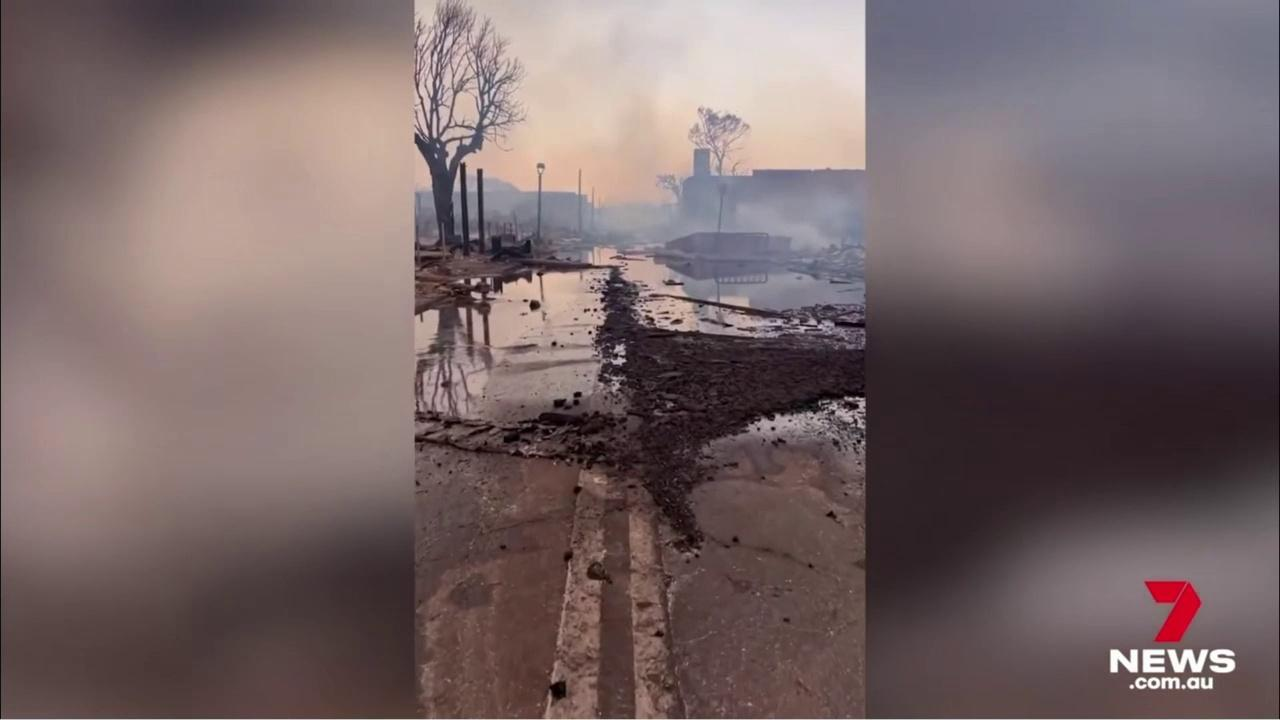smoke: (416, 0, 864, 256)
